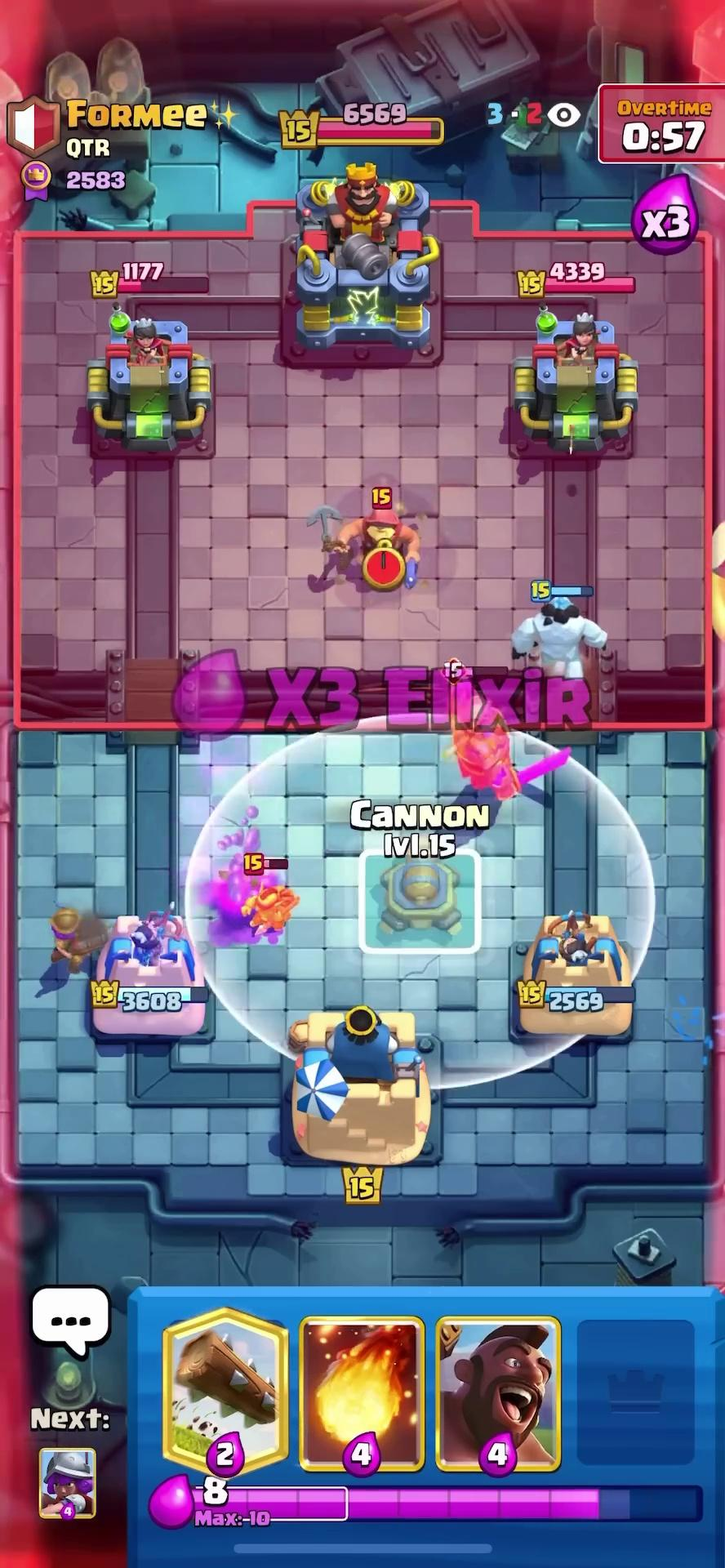ice_golem: (520, 582, 594, 682)
musketeer: (41, 886, 102, 974)
